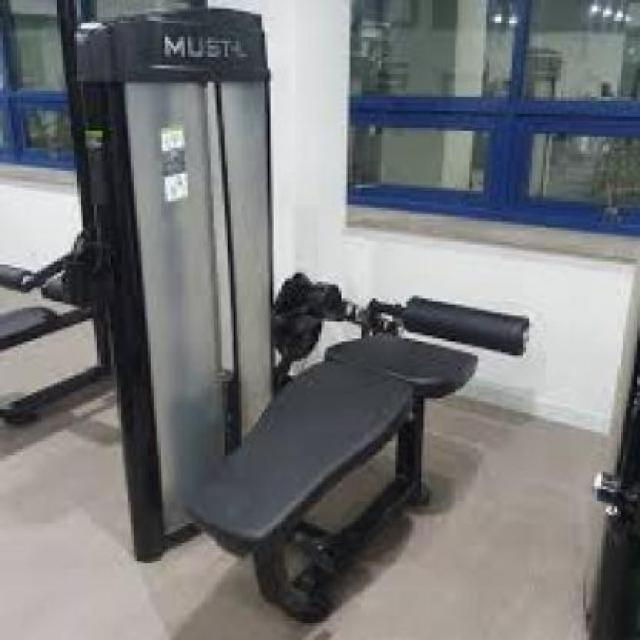reg curl machine: (76, 9, 536, 628)
